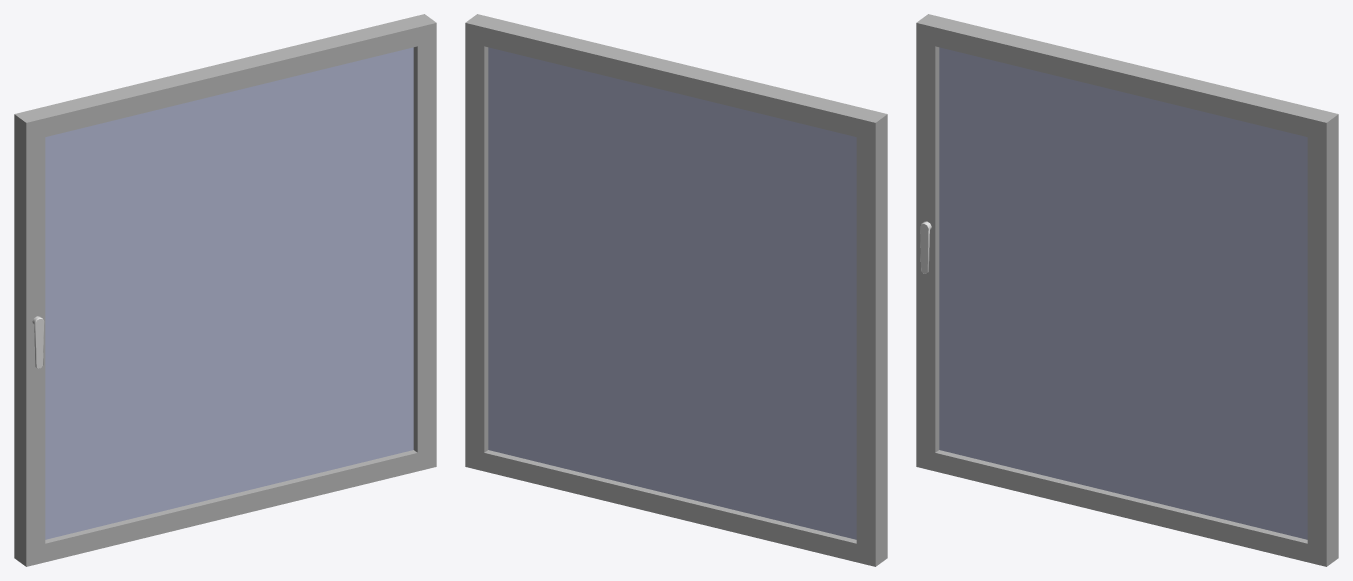
The model's file is Window_01_A_SM.FBX.
3 renders of one model, left to right at view 1: azimuth 30°, elevation 25°; view 2: azimuth 150°, elevation 25°; view 3: azimuth 330°, elevation 25°, orthographic.
Parts seen in each view (by area): view 1: Window_01_A_SM; view 2: Window_01_A_SM; view 3: Window_01_A_SM.
Part boxes in pixels (<box>): Window_01_A_SM: <box>14,14,436,566</box>; Window_01_A_SM: <box>465,14,887,566</box>; Window_01_A_SM: <box>916,14,1338,566</box>.
Size of the model in its own units: 122 by 7.63 by 126.
